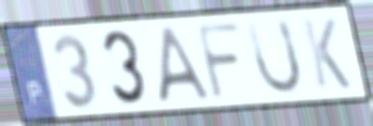3: (50, 30, 99, 113), (100, 27, 149, 109)
A: (157, 23, 212, 106)
F: (193, 21, 244, 102)
K: (299, 16, 354, 91)
U: (244, 16, 305, 98)
